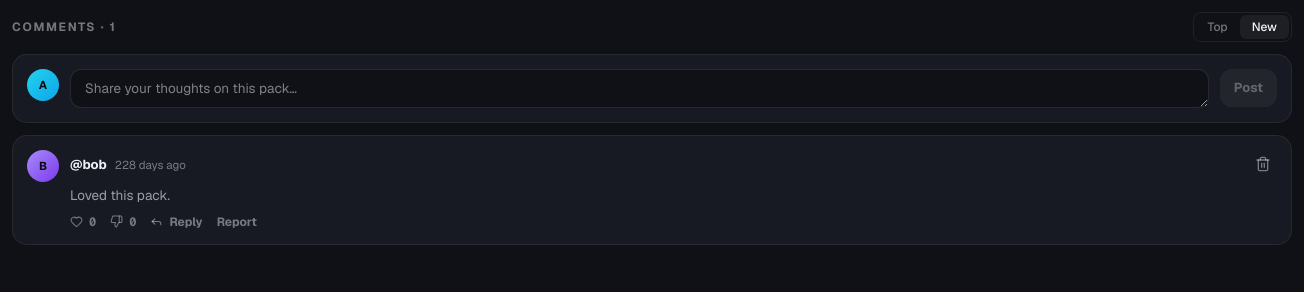
Scenario: CommentSection › delete affordance › shows an inline error when deletion fails and keeps the comment
The image size is (1304, 292).
Click the button named "Delete comment": [1263, 164] box [1249, 150, 1277, 178]
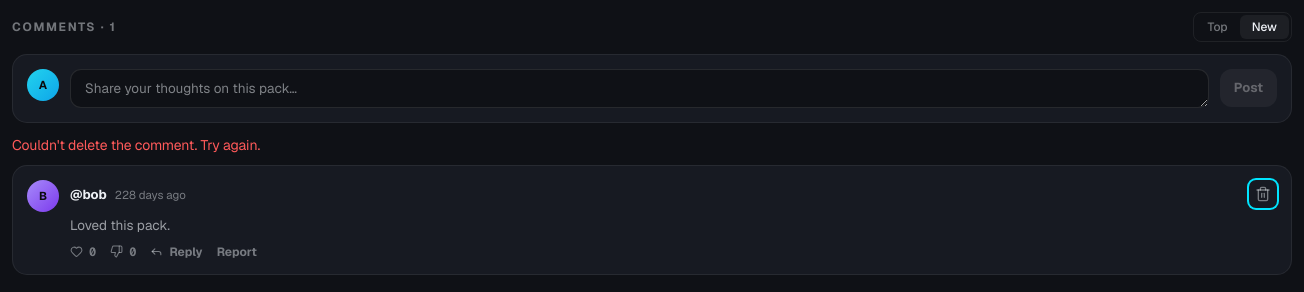
Expected: the text "Loved this pack." is shown, [70, 216, 170, 234]
Expected: the text "Couldn't delete the comment. Try again." is shown, [12, 136, 260, 154]
